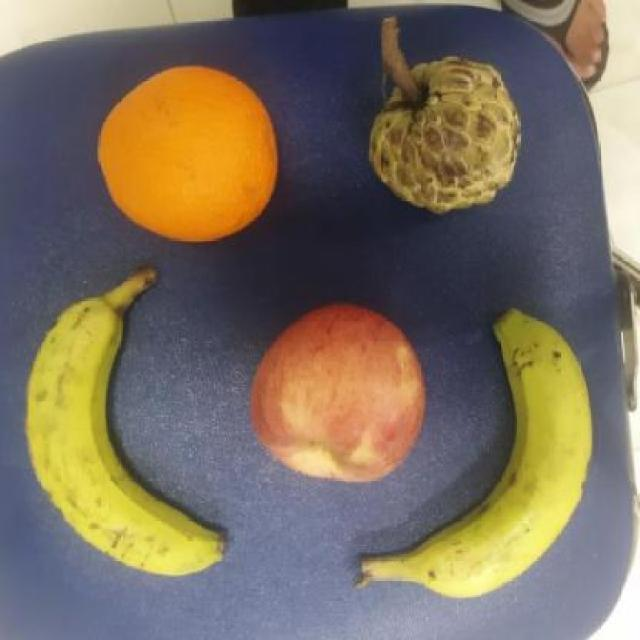apple: (249, 306, 426, 485)
banana: (353, 309, 592, 600), (22, 266, 227, 577)
oren: (96, 63, 279, 243)
sugar apple: (368, 55, 521, 214)
